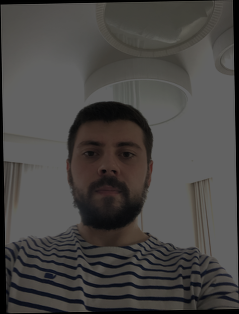without_mask: (72, 134, 146, 232)
